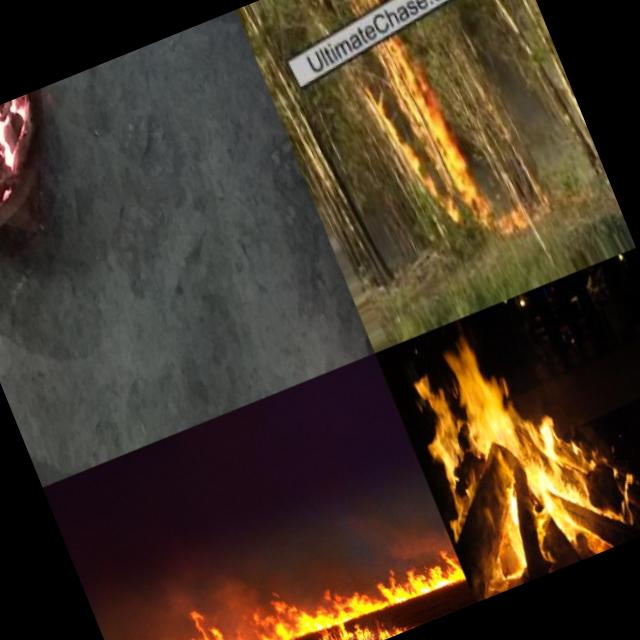fire: (388, 320, 622, 596), (103, 504, 465, 640), (352, 36, 494, 247), (0, 92, 78, 267), (310, 591, 424, 640), (228, 628, 305, 640)
